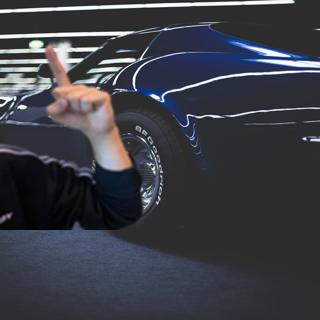IRRITATED: (39, 44, 118, 140)
